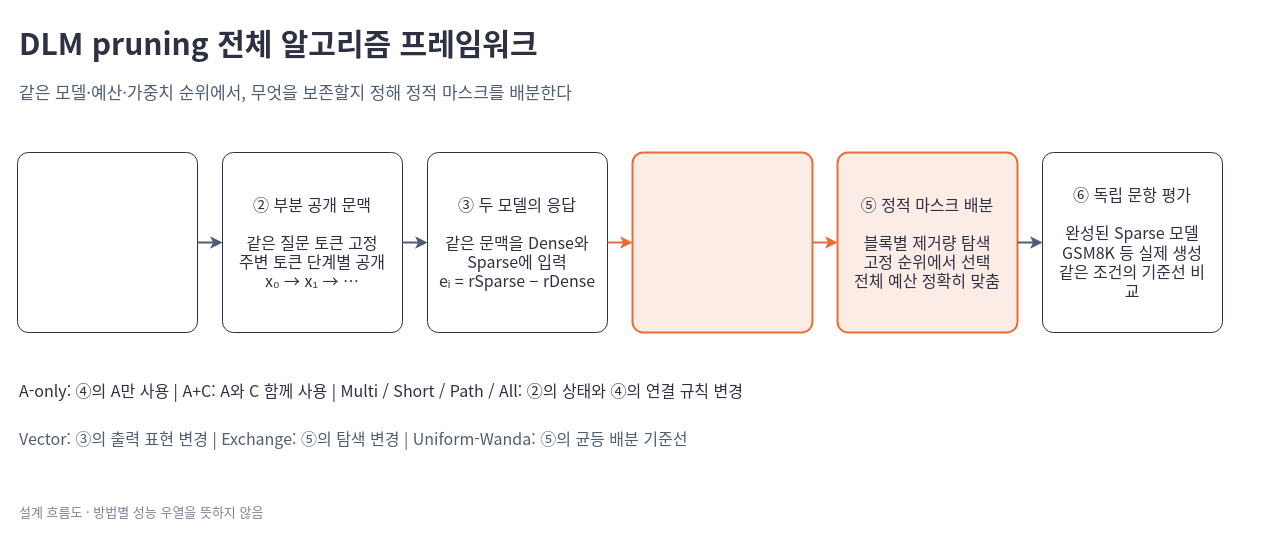
Image size: 1275x544. Some labels were removed from this diagram. The shapes that lost their labels are listed below. From the top down, each one's box as (x1, y1, x2, y2) in pixels, then its label:
(16, 152, 198, 332): ① 모델·예산 고정 Dense LLaDA Wanda 가중치 순위 정확한 sparsity
(631, 151, 813, 333): ④ 보존 목표 계산 A: 각 상태의 오차 C: 상태 간 변화 오차 방법별 연결·출력 선택
